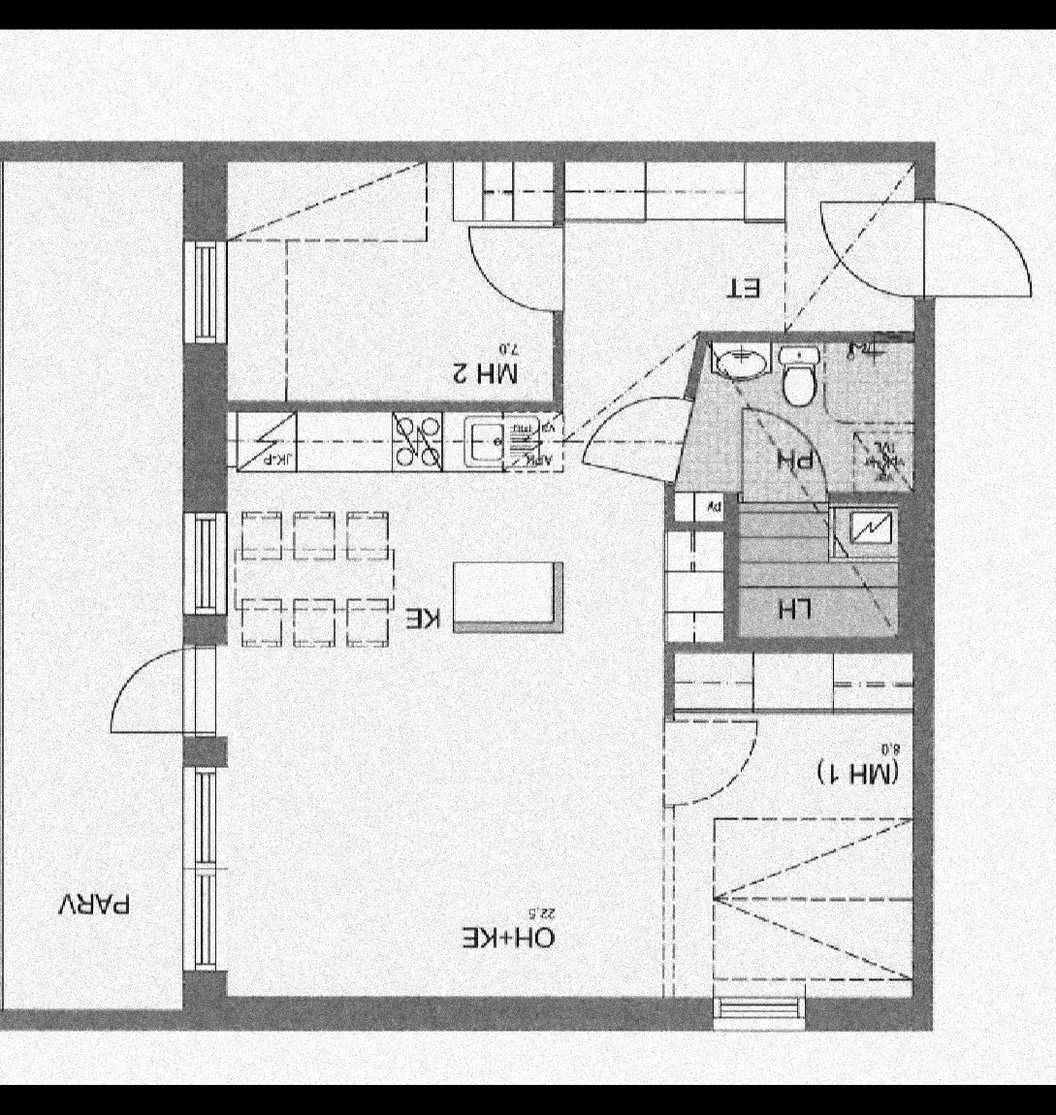door: (808, 189, 1040, 300), (567, 379, 704, 493), (106, 645, 235, 734), (448, 224, 572, 316), (659, 709, 766, 807), (734, 400, 831, 507)
window: (177, 238, 230, 348), (181, 772, 228, 865), (186, 510, 226, 615), (714, 996, 811, 1038), (184, 873, 216, 969)
zone: (224, 165, 917, 998), (0, 163, 180, 1012), (665, 639, 914, 995), (220, 165, 550, 398), (674, 322, 923, 497), (737, 499, 905, 640)
